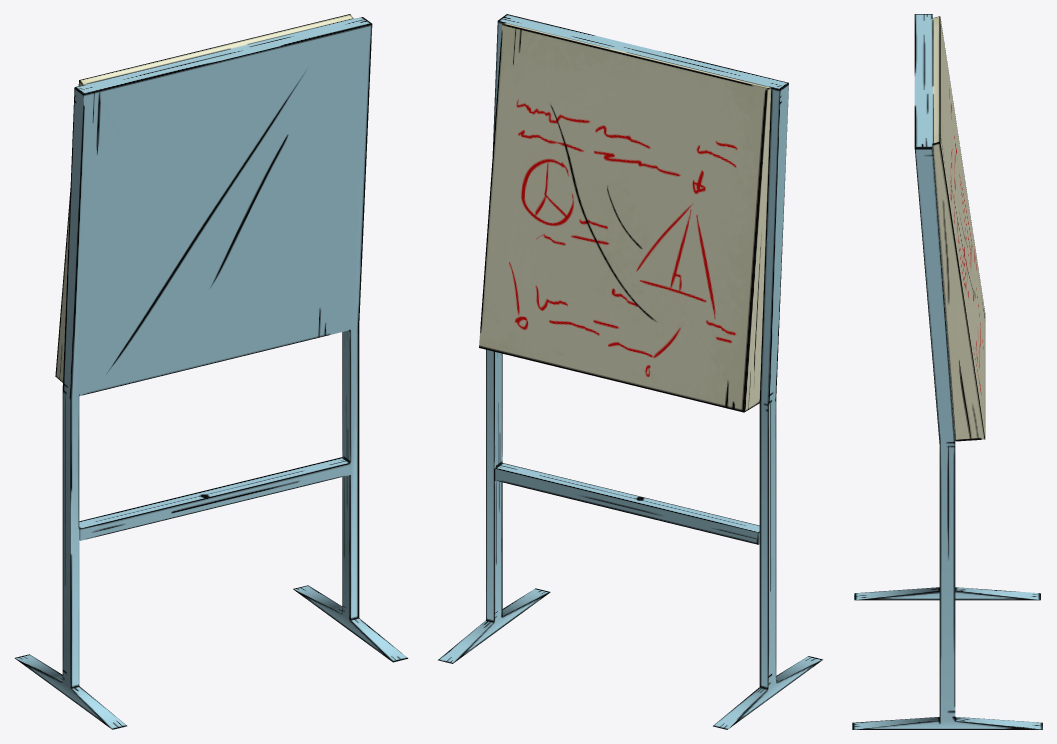
Rendered from blad.fbx.
3 views of the same model, side by side, from view 1: azimuth 30°, elevation 25°; view 2: azimuth 150°, elevation 25°; view 3: azimuth 270°, elevation 25° (orthographic). The views are drawn at different scales.
Visible parts, largest first — view 1: board; view 2: board; view 3: board.
Part boxes in pixels (<box>): board: <box>14,14,408,729</box>; board: <box>438,14,823,729</box>; board: <box>852,14,1042,729</box>.
Bounding box in the file's own units: 0.9892 × 1.97 × 0.5834.
